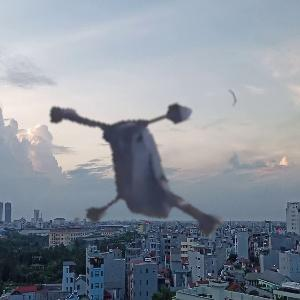drone: (56, 64, 281, 289)
